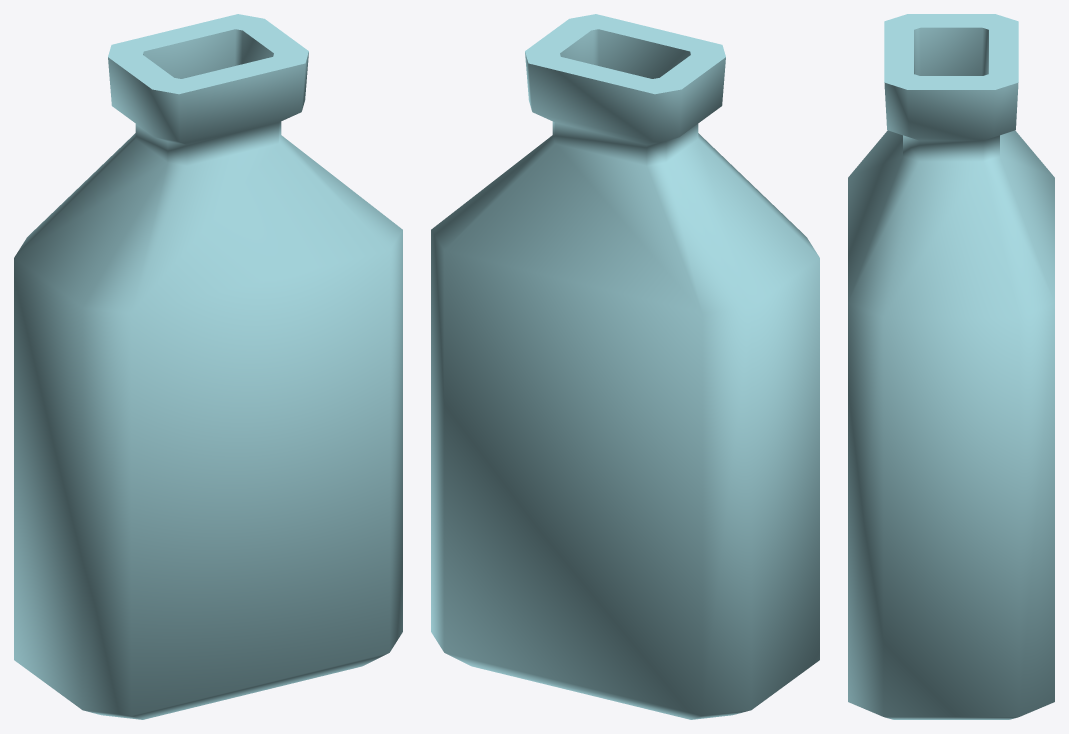
Rendered from PotionBottleEmpty6.fbx.
3 renders of one model, left to right at view 1: azimuth 30°, elevation 25°; view 2: azimuth 150°, elevation 25°; view 3: azimuth 270°, elevation 25°, orthographic.
Visible parts, largest first — view 1: PotionBottleEmpty6; view 2: PotionBottleEmpty6; view 3: PotionBottleEmpty6.
Part boxes in pixels (left/top/right/bottom): PotionBottleEmpty6: left=14, top=14, right=402, bottom=719; PotionBottleEmpty6: left=431, top=14, right=819, bottom=719; PotionBottleEmpty6: left=848, top=14, right=1054, bottom=719.
Size of the model in its own units: 7.55 by 13.67 by 4.25.
